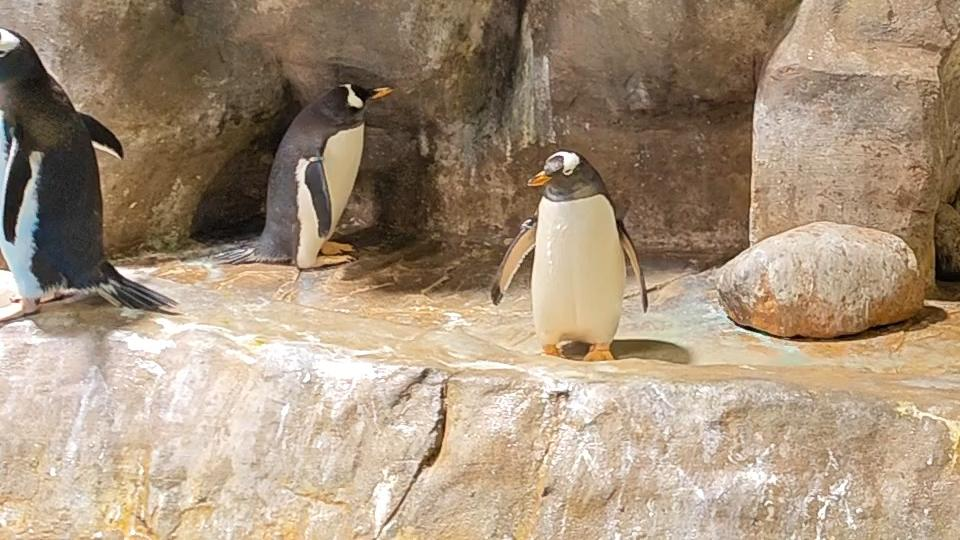Southern Rockhopper Penguin: (487, 140, 652, 372)
